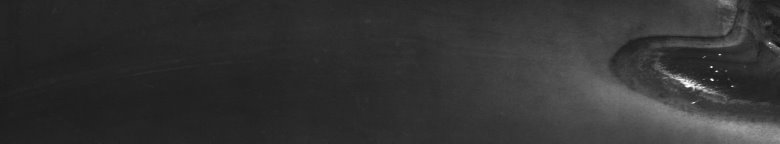ke: (640, 4, 776, 128)
